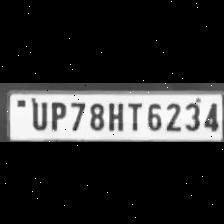2: (163, 98, 181, 132)
3: (182, 99, 200, 131)
4: (201, 99, 219, 131)
6: (144, 99, 162, 130)
7: (66, 97, 86, 130)
8: (86, 99, 106, 131)
H: (105, 99, 125, 131)
P: (46, 98, 66, 130)
T: (124, 99, 142, 131)
U: (28, 98, 48, 130)
